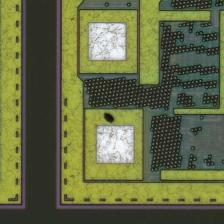PARTICLE: (102, 110, 118, 126)
